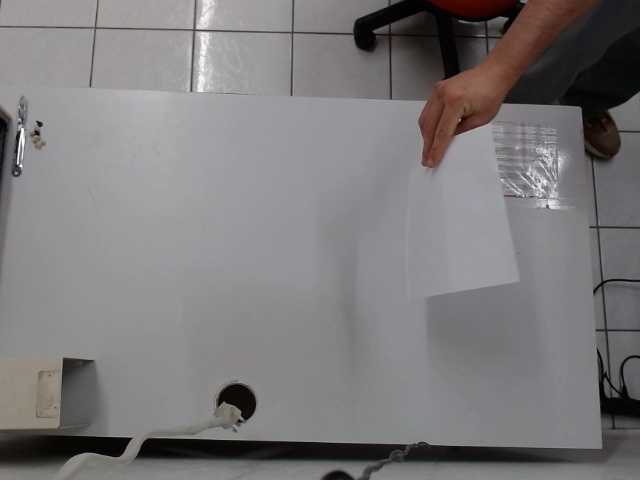divisor: (406, 122, 520, 300)
